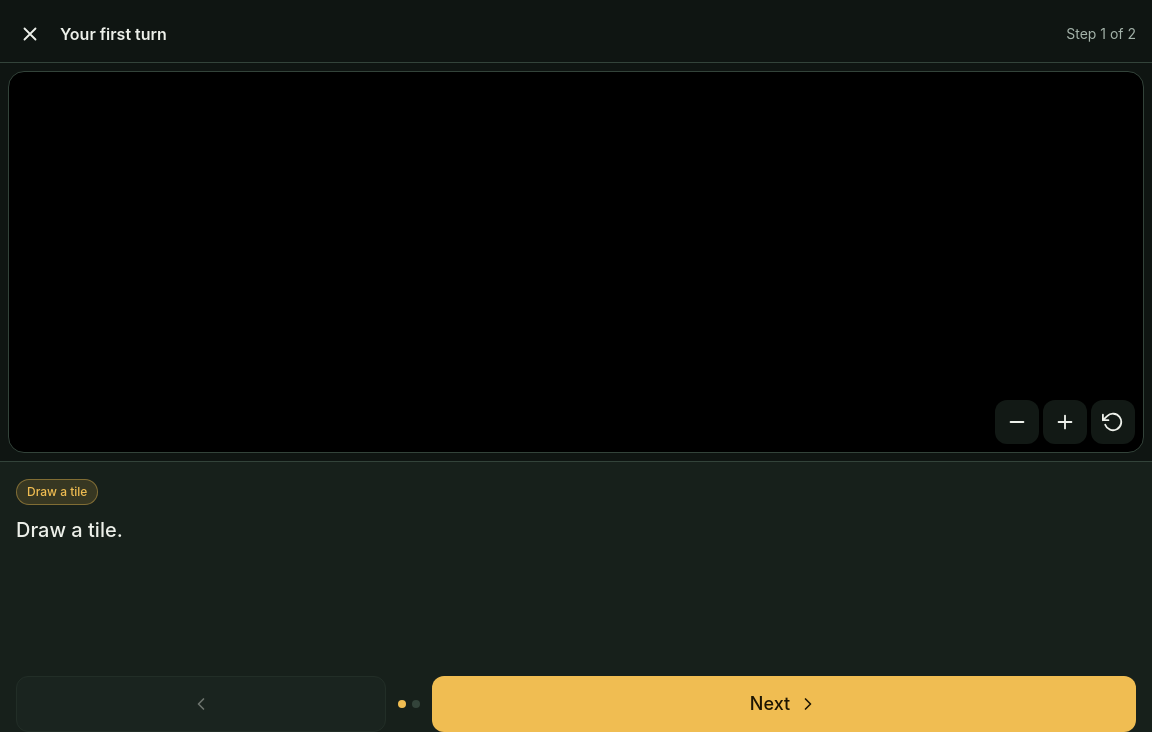
it: story mode › 'Show me' reveals the answer and unlocks Next
Step 1. Click the button "Next" → (784, 704), box [432,676,1136,731]
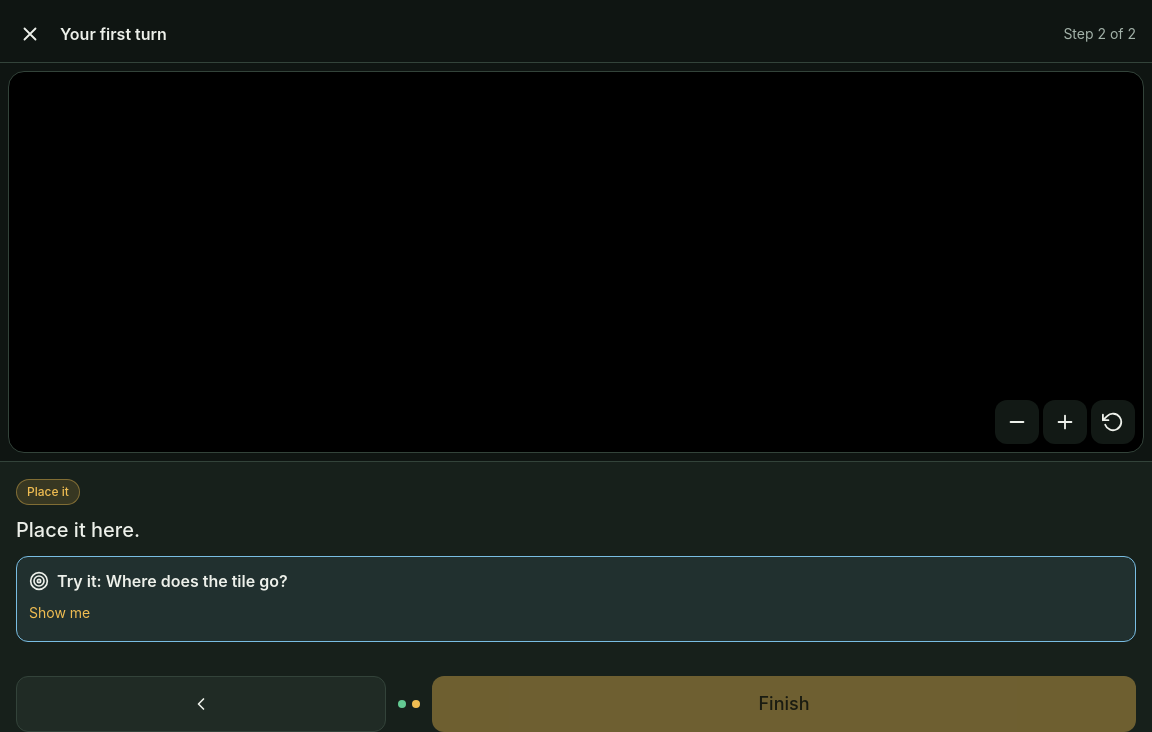
Step 2. Click the button "Show me" → (60, 613), box [29,597,90,629]
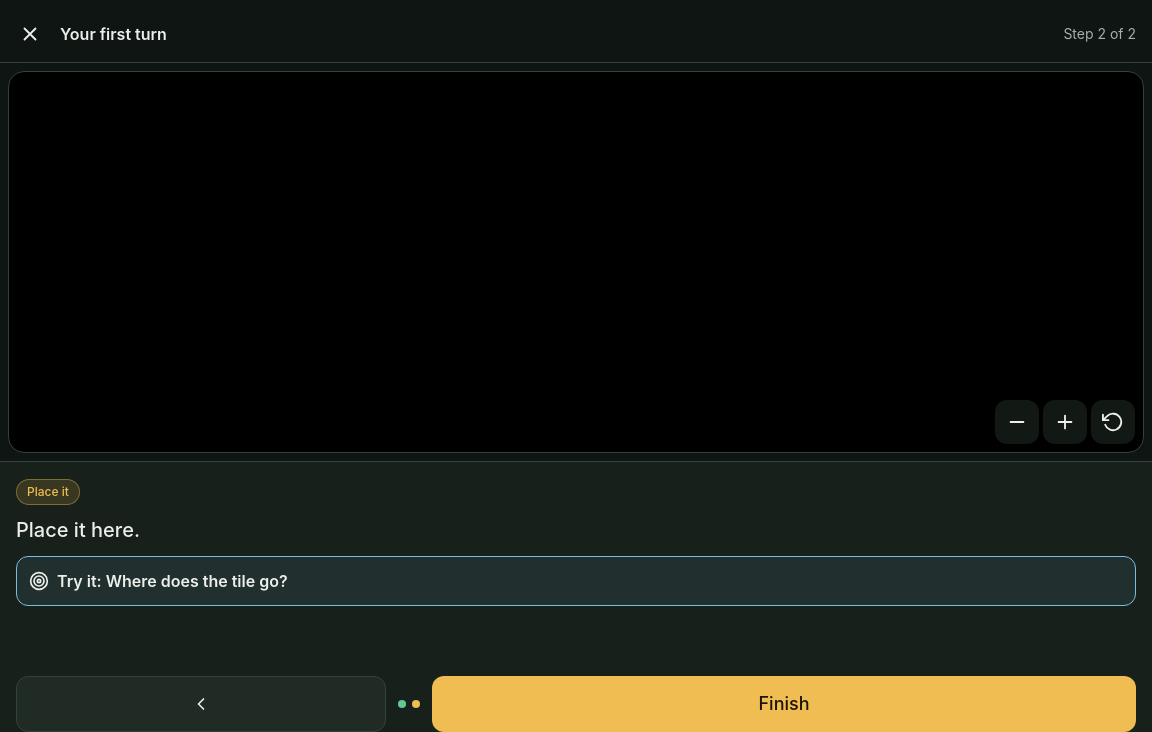
Expected: the button "Finish" is enabled, [432,676,1136,731]
